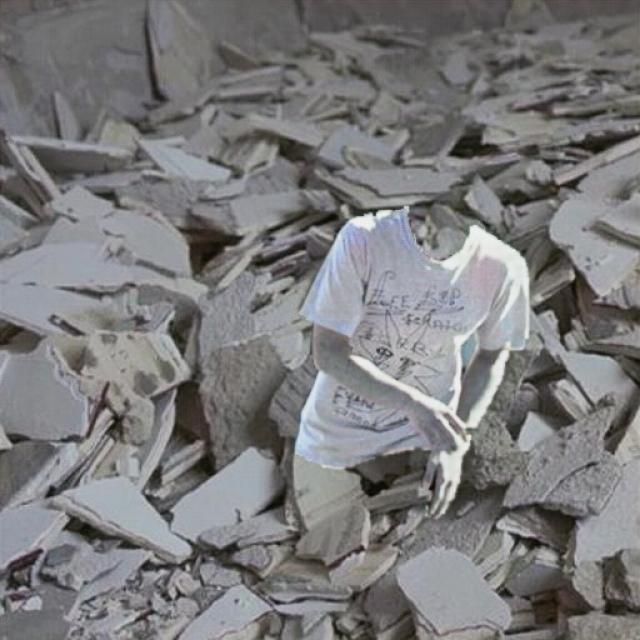Person in Rubble: (294, 207, 528, 518)
